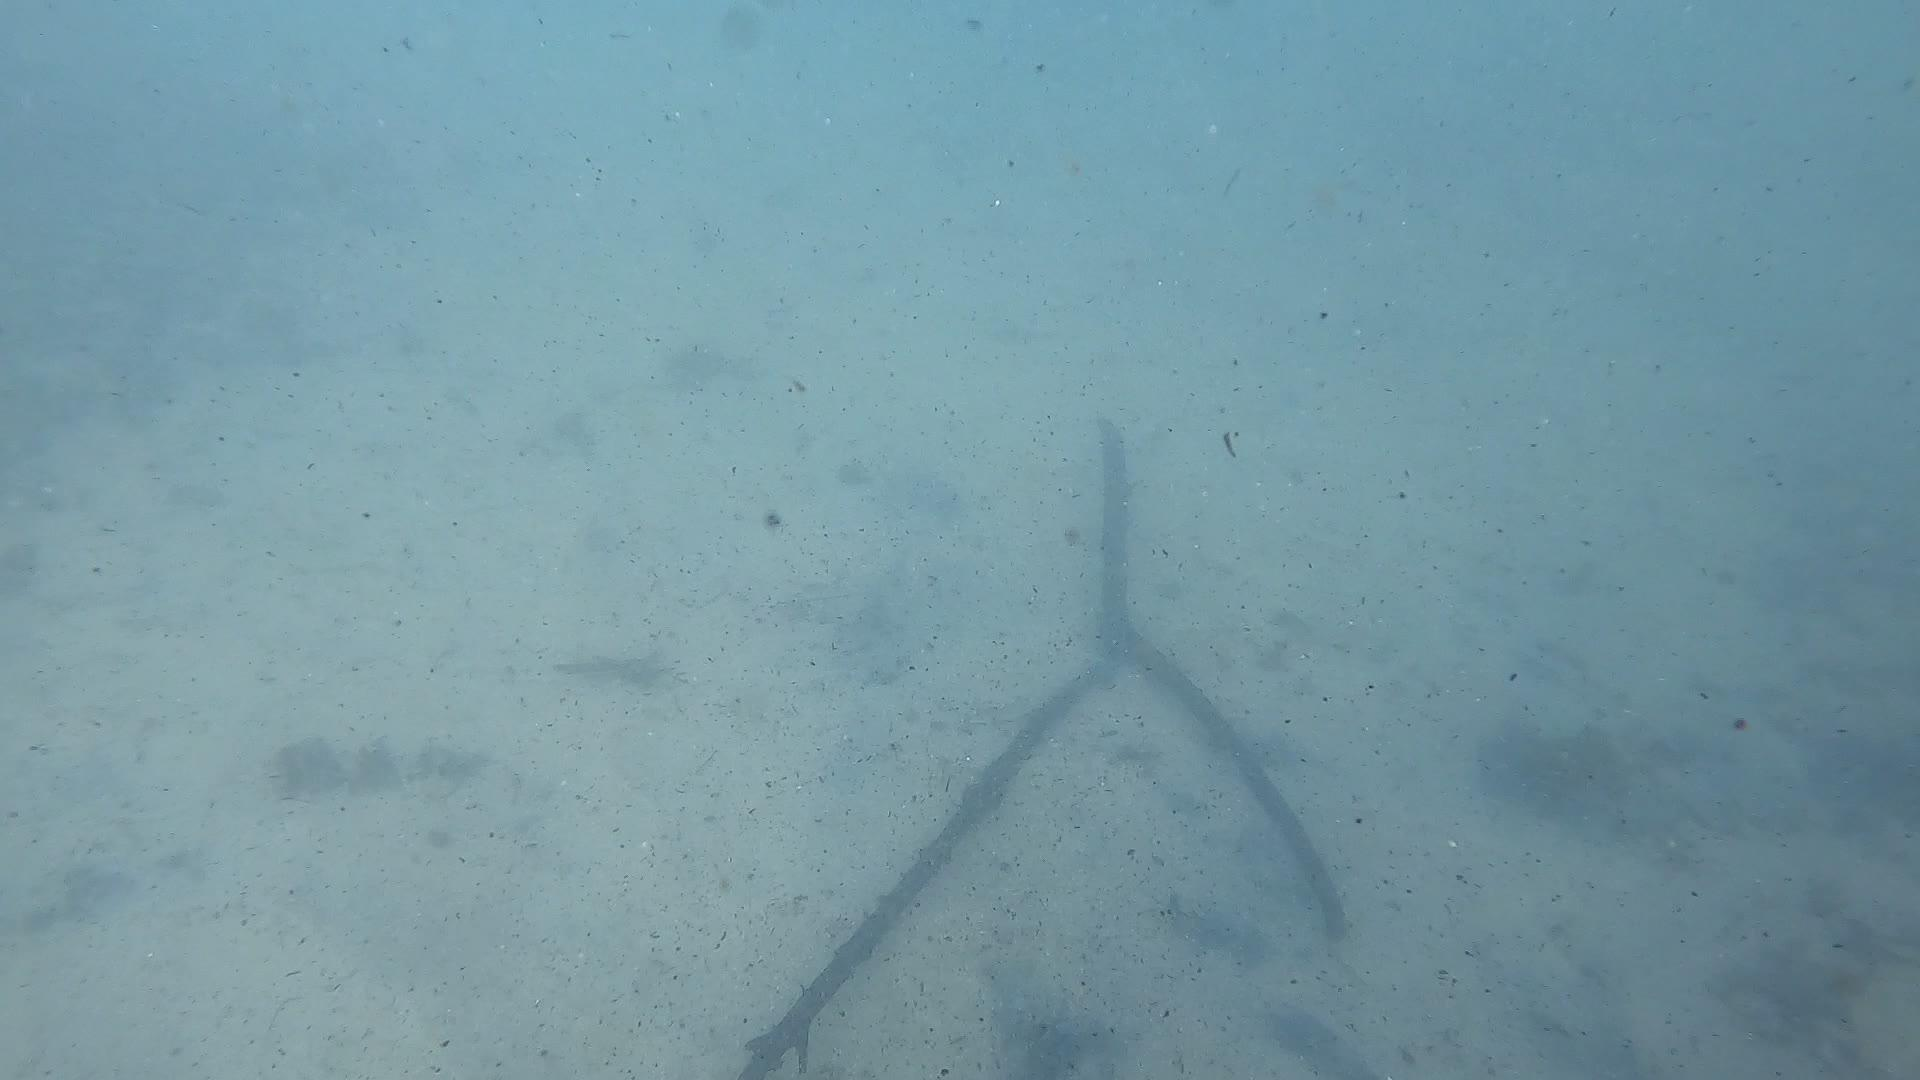wood: (727, 415, 1342, 1080)
